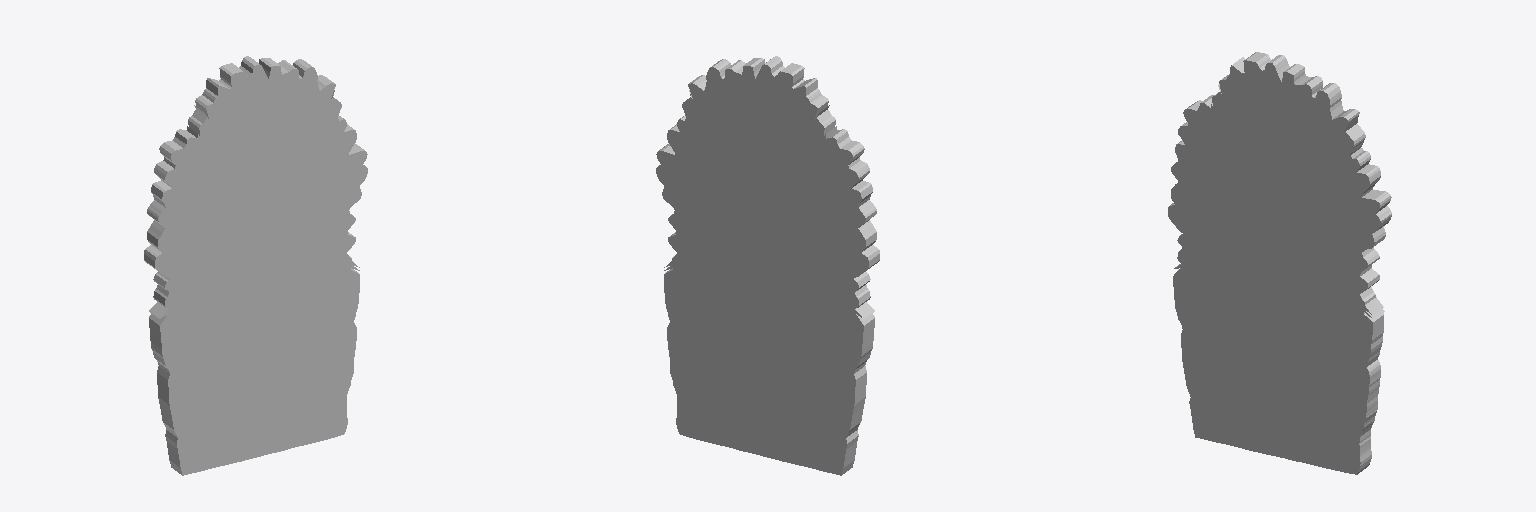
The model's file is planta1.obj.
3 renders of one model, left to right at view 1: azimuth 30°, elevation 25°; view 2: azimuth 150°, elevation 25°; view 3: azimuth 330°, elevation 25°, orthographic.
Parts seen in each view (by area): view 1: Plano.001; view 2: Plano.001; view 3: Plano.001.
Boxes of the visible parts, box(x1,y1,x2,y2) form: Plano.001: box(144, 56, 367, 475); Plano.001: box(656, 56, 879, 475); Plano.001: box(1168, 52, 1391, 474).
Size of the model in its own units: 5.67 by 9.98 by 0.5238.